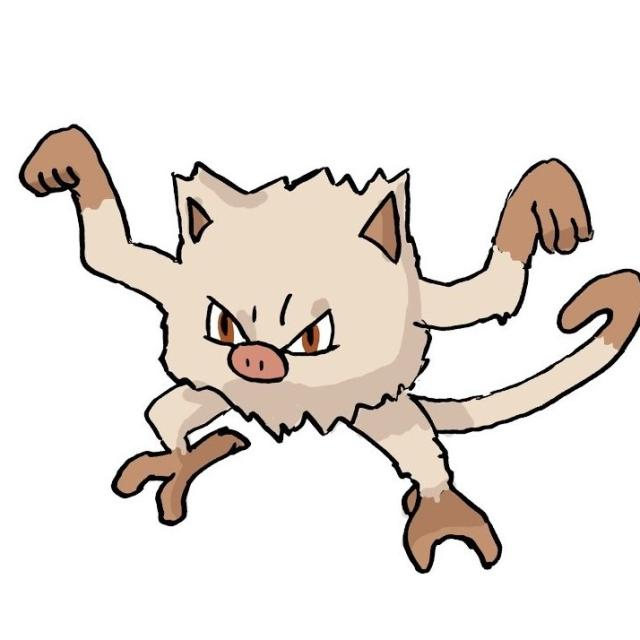Mankey: (99, 160, 524, 570)
